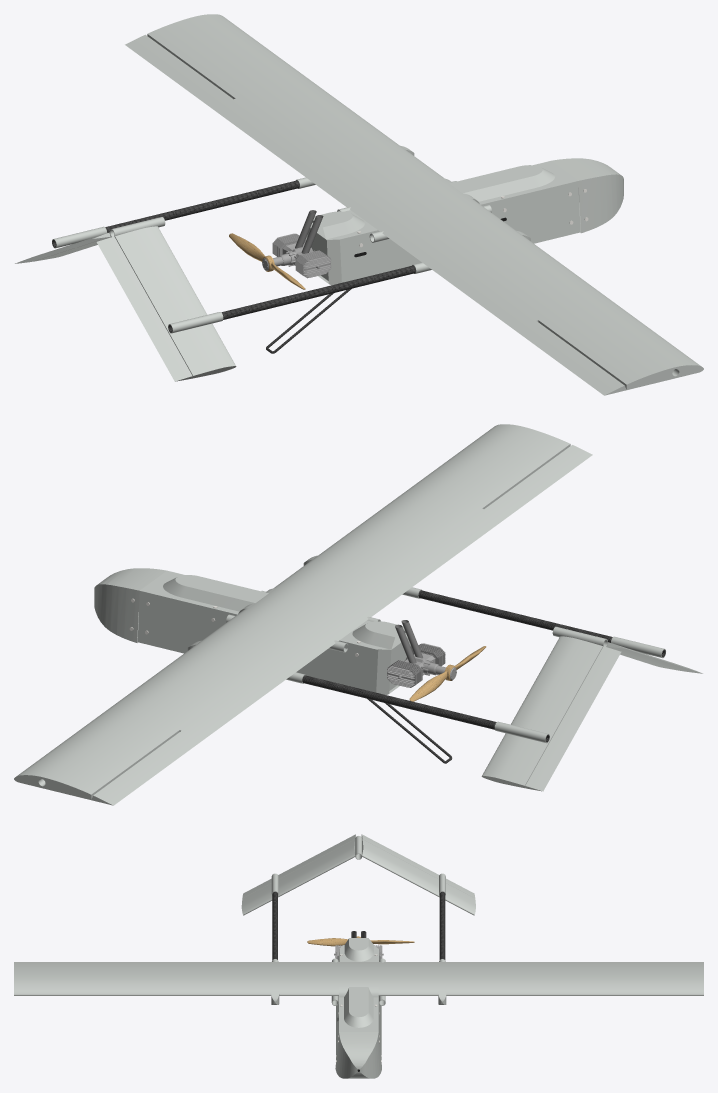
3 renders of one model, top to bottom at view 1: azimuth 30°, elevation 25°; view 2: azimuth 150°, elevation 25°; view 3: azimuth 270°, elevation 25°, orthographic. The views are drawn at different scales.
Parts seen in each view (by area): view 1: Mesh23 Group11 Model, Mesh30 Group19 Model, Mesh5 Group7 Group1 Model, Mesh52 Group42 Group37 Model, Mesh44 Group31 Group20 Model, Mesh57 Group48 Group45 Model, Mesh24 Group13 Group12 Model, Mesh48 Group38 Group37 Model, Mesh54 Group44 Group37 Model, Mesh60 Group52 Group49 Model, Mesh6 Componente_33_1 Group8 Model, Mesh51 Group41 Group37 Model (+1 smaller); view 2: Mesh30 Group19 Model, Mesh23 Group11 Model, Mesh5 Group7 Group1 Model, Mesh51 Group41 Group37 Model, Mesh44 Group31 Group20 Model, Mesh57 Group48 Group45 Model, Mesh24 Group13 Group12 Model, Mesh54 Group44 Group37 Model, Mesh48 Group38 Group37 Model, Mesh60 Group52 Group49 Model, Mesh8 Componente_33_2 Group8 Model, Mesh52 Group42 Group37 Model; view 3: Mesh23 Group11 Model, Mesh30 Group19 Model, Mesh5 Group7 Group1 Model, Mesh52 Group42 Group37 Model, Mesh51 Group41 Group37 Model, Mesh24 Group13 Group12 Model, Mesh57 Group48 Group45 Model, Mesh60 Group52 Group49 Model, Mesh54 Group44 Group37 Model, Mesh48 Group38 Group37 Model.
Part boxes in pixels (box(x1,y1,x2,y2)): Mesh23 Group11 Model: box(429, 236, 703, 395); Mesh30 Group19 Model: box(125, 14, 396, 173); Mesh5 Group7 Group1 Model: box(301, 143, 525, 266); Mesh52 Group42 Group37 Model: box(96, 226, 236, 381); Mesh44 Group31 Group20 Model: box(305, 188, 580, 285); Mesh57 Group48 Group45 Model: box(442, 161, 578, 208); Mesh24 Group13 Group12 Model: box(551, 158, 623, 233); Mesh48 Group38 Group37 Model: box(168, 265, 415, 332); Mesh54 Group44 Group37 Model: box(52, 180, 299, 247); Mesh60 Group52 Group49 Model: box(312, 210, 377, 245); Mesh6 Componente_33_1 Group8 Model: box(293, 247, 331, 278); Mesh51 Group41 Group37 Model: box(15, 232, 110, 263); Mesh30 Group19 Model: box(14, 646, 288, 805); Mesh23 Group11 Model: box(321, 424, 592, 583); Mesh5 Group7 Group1 Model: box(192, 552, 416, 676); Mesh51 Group41 Group37 Model: box(481, 636, 621, 791); Mesh44 Group31 Group20 Model: box(137, 597, 412, 694); Mesh57 Group48 Group45 Model: box(139, 570, 275, 618); Mesh24 Group13 Group12 Model: box(94, 568, 166, 642); Mesh54 Group44 Group37 Model: box(302, 675, 549, 742); Mesh48 Group38 Group37 Model: box(418, 590, 665, 657); Mesh60 Group52 Group49 Model: box(339, 620, 405, 656); Mesh8 Componente_33_2 Group8 Model: box(387, 657, 424, 687); Mesh52 Group42 Group37 Model: box(607, 642, 702, 673); Mesh23 Group11 Model: box(14, 962, 266, 995); Mesh30 Group19 Model: box(451, 962, 703, 995); Mesh5 Group7 Group1 Model: box(266, 962, 450, 995); Mesh52 Group42 Group37 Model: box(241, 834, 355, 915); Mesh51 Group41 Group37 Model: box(361, 834, 475, 915); Mesh24 Group13 Group12 Model: box(335, 1032, 381, 1078); Mesh57 Group48 Group45 Model: box(338, 987, 378, 1033); Mesh60 Group52 Group49 Model: box(339, 938, 379, 961); Mesh54 Group44 Group37 Model: box(439, 892, 445, 959); Mesh48 Group38 Group37 Model: box(272, 892, 277, 959).
Bounding box in the file's own units: 3814 × 1110 × 5997.
